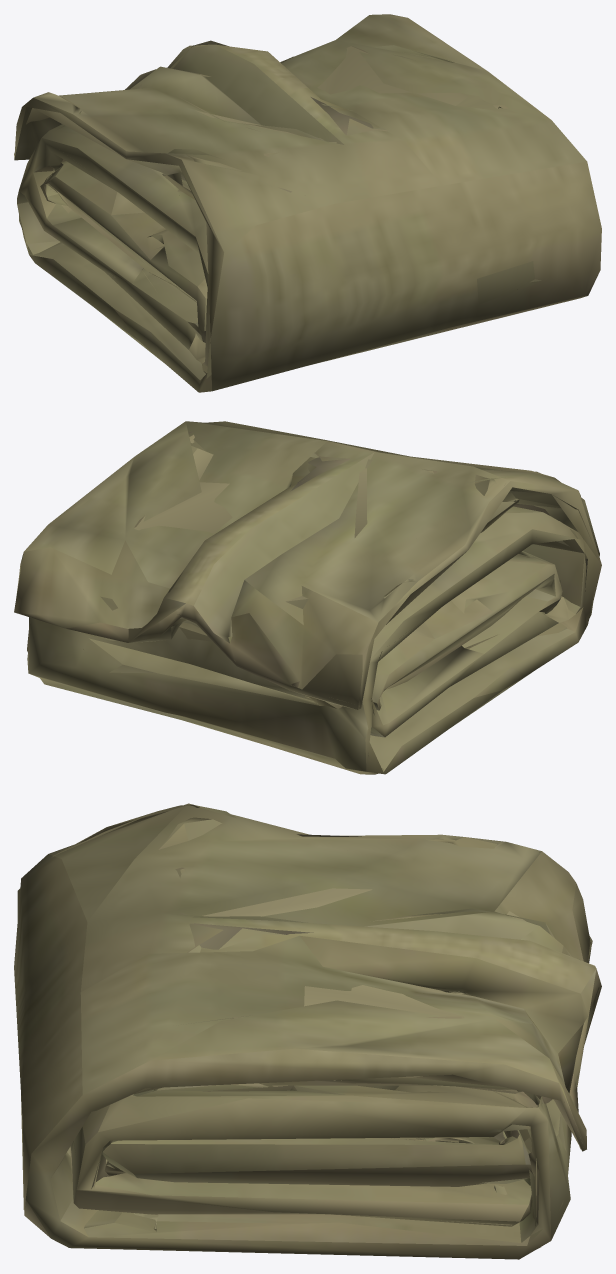
The picture shows the model from 3 angles, top to bottom: view 1: azimuth 30°, elevation 25°; view 2: azimuth 150°, elevation 25°; view 3: azimuth 270°, elevation 25°; orthographic projection. The views are drawn at different scales.
Visible parts, largest first — view 1: geometry_0; view 2: geometry_0; view 3: geometry_0.
Part boxes in pixels (<box>): geometry_0: <box>14,14,601,392</box>; geometry_0: <box>14,421,601,774</box>; geometry_0: <box>14,803,601,1259</box>.
Bounding box in the file's own units: 0.5957 × 0.2939 × 0.6175.
Materials: 1 (1 with a texture image).
